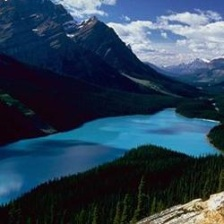neutral: (2, 19, 224, 222)
